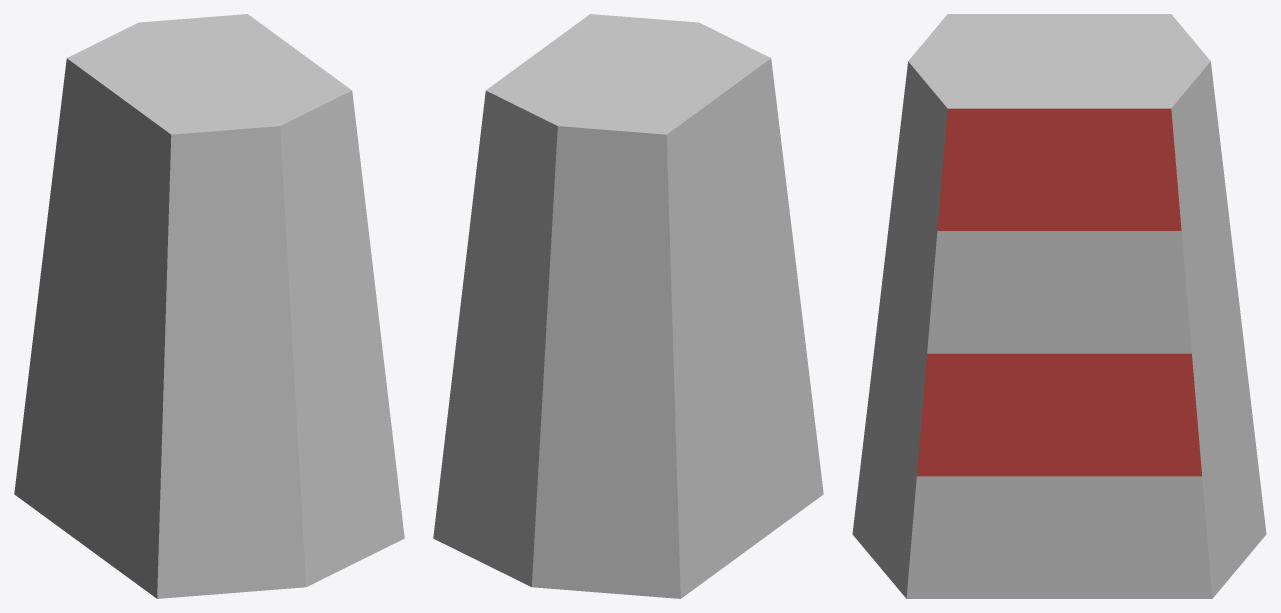
File: HunterTorso.fbx
3 views of the same model, side by side, from view 1: azimuth 30°, elevation 25°; view 2: azimuth 150°, elevation 25°; view 3: azimuth 270°, elevation 25° (orthographic). The views are drawn at different scales.
Visible parts, largest first — view 1: Hunter Tunic; view 2: Hunter Tunic; view 3: Hunter Tunic.
Boxes of the visible parts, x1,y1,x2,y2 form: Hunter Tunic: (14,14,404,598); Hunter Tunic: (433,14,823,598); Hunter Tunic: (852,14,1266,598).
Bounding box in the file's own units: 217 × 371 × 294.
